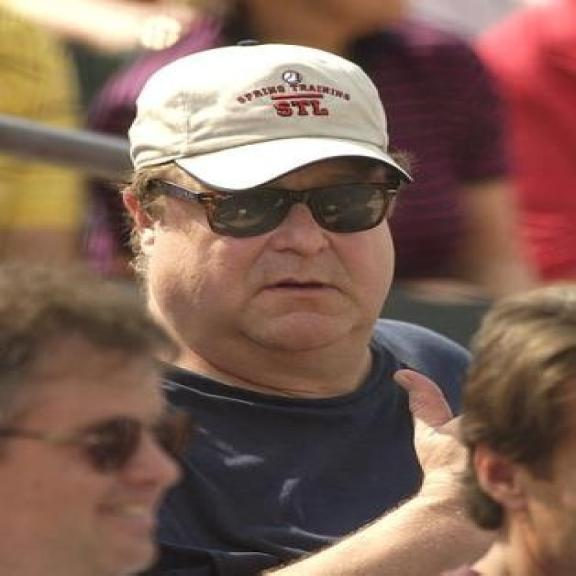face: (124, 148, 402, 364), (5, 322, 182, 574)
